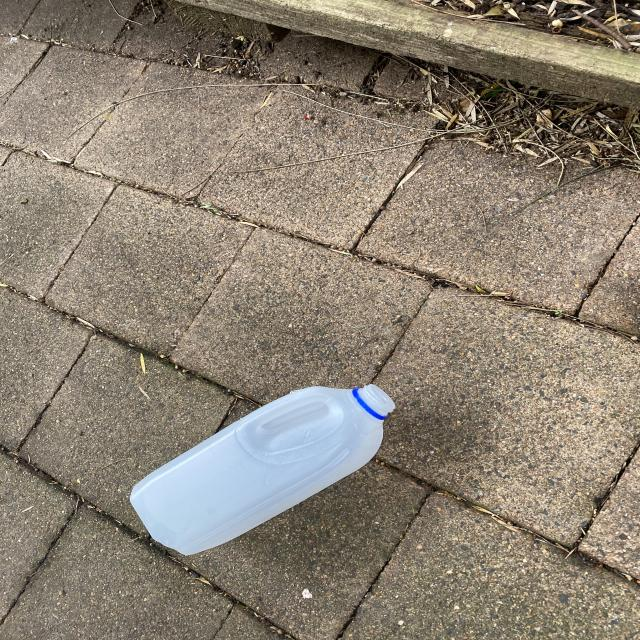bottle: (125, 377, 400, 560)
